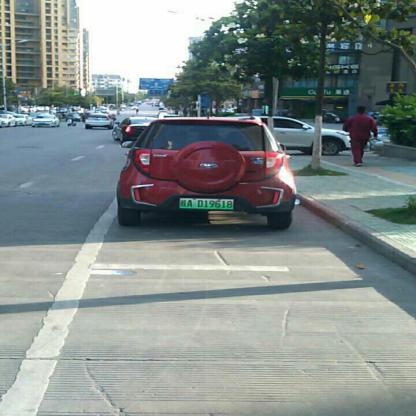lp: (178, 197, 233, 210)
